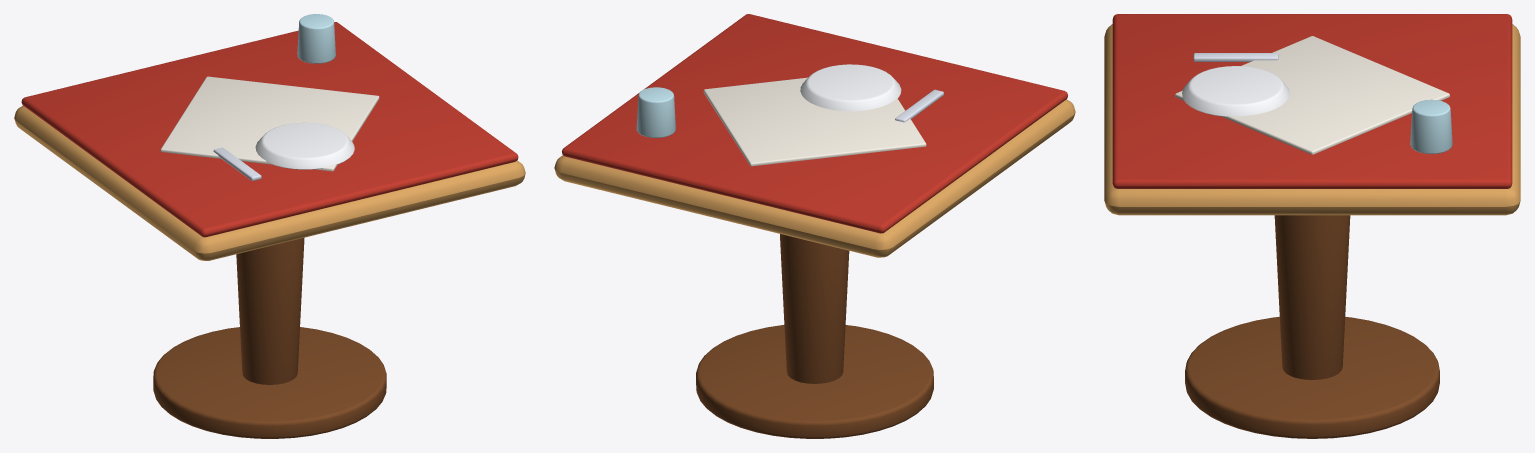
The model's file is table.glb.
The picture shows the model from 3 angles, left to right: view 1: azimuth 30°, elevation 25°; view 2: azimuth 150°, elevation 25°; view 3: azimuth 270°, elevation 25°; orthographic projection. The views are drawn at different scales.
Visible parts, largest first — view 1: cloth, foot, top, napkin, stem, plate, glass, fork; view 2: cloth, foot, top, napkin, stem, plate, glass, fork; view 3: cloth, foot, top, napkin, stem, plate, glass, fork.
Part boxes in pixels (box(x1,y1,x2,y2)): cloth: box(21, 22, 518, 237); foot: box(153, 327, 386, 438); top: box(14, 105, 525, 260); napkin: box(160, 76, 379, 171); stem: box(236, 237, 304, 384); plate: box(255, 122, 354, 169); glass: box(297, 14, 335, 63); fork: box(213, 147, 261, 180); cloth: box(562, 14, 1067, 233); foot: box(696, 325, 933, 438); top: box(554, 99, 1075, 257); napkin: box(703, 77, 926, 166); stem: box(780, 234, 849, 383); plate: box(800, 64, 901, 111); glass: box(636, 87, 675, 137); fork: box(895, 89, 943, 122); cloth: box(1112, 14, 1512, 188); foot: box(1185, 317, 1439, 438); top: box(1104, 24, 1520, 215); napkin: box(1175, 36, 1449, 154); stem: box(1274, 215, 1350, 379); plate: box(1182, 66, 1289, 116); glass: box(1410, 99, 1452, 153); fork: box(1193, 53, 1278, 61).
Bounding box in the file's own units: 0.98 × 0.865 × 0.98.
